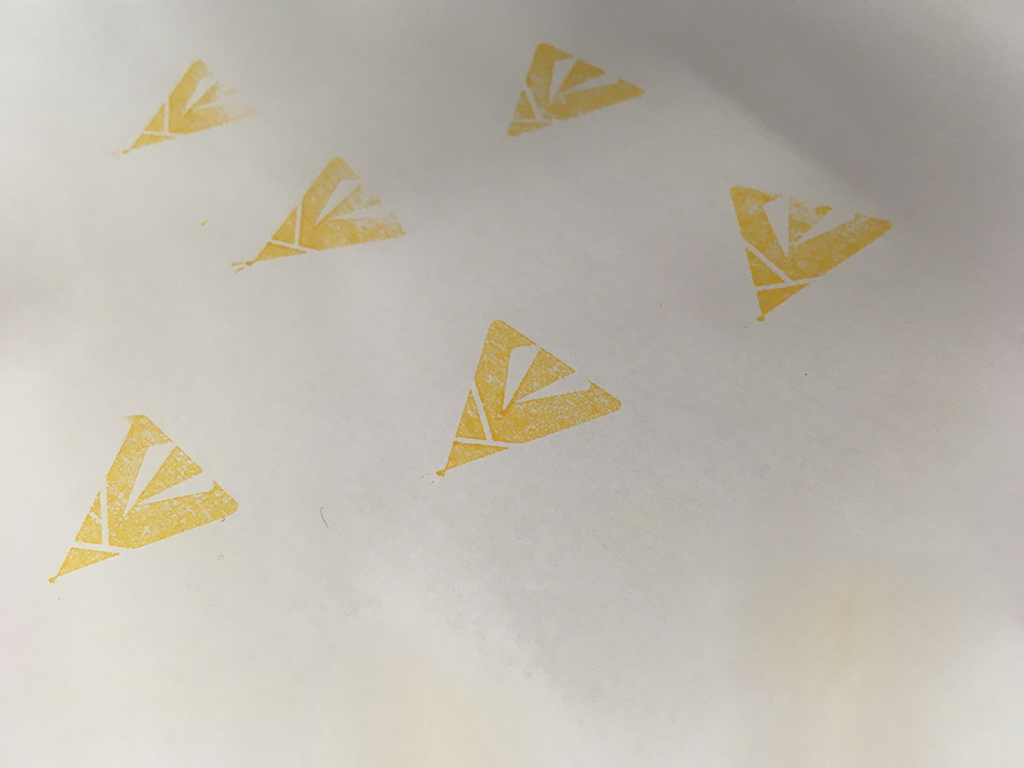tent: (35, 398, 250, 593), (422, 307, 626, 491), (716, 181, 903, 339), (228, 152, 408, 290), (105, 52, 273, 172), (498, 29, 650, 157)
